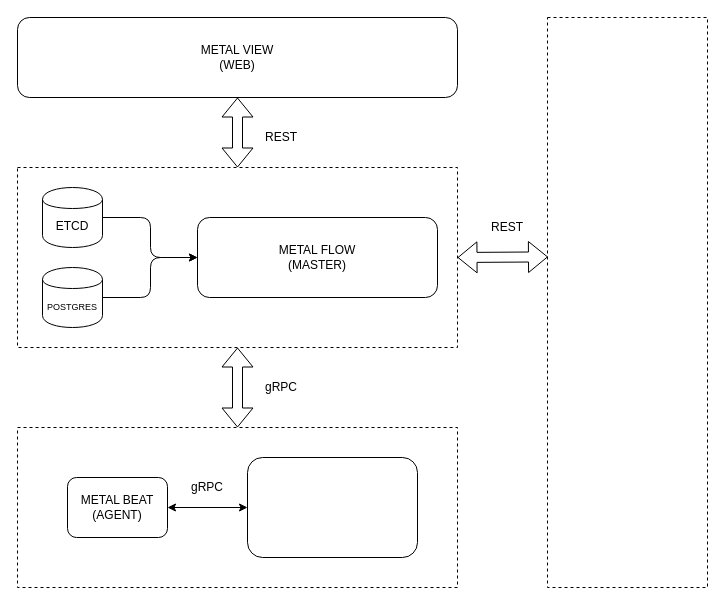
This 725x605 diagram has some shape labels left out. The shapes that lost their labels are listed below. From the top down, each one's box as (x1, y1, x2, y2) in pixels, then its label:
(546, 16, 708, 588): DEVSECOPS
(246, 456, 418, 558): METAL METRICS (WORKER)
